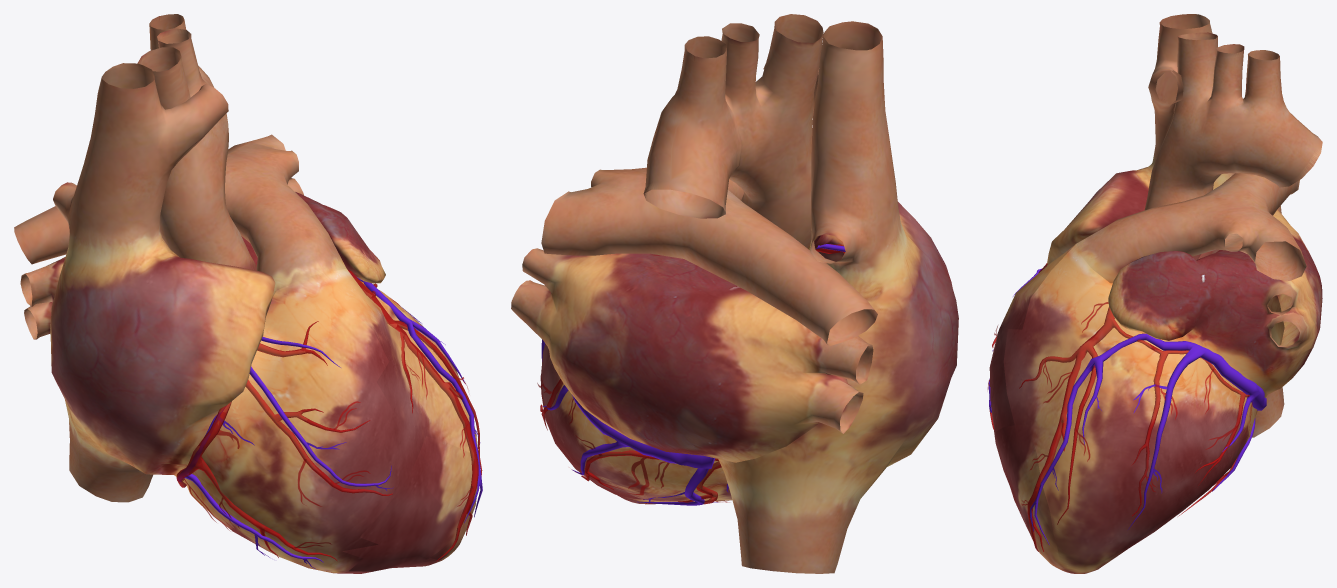
The model's file is human_heart_pieces.fbx.
3 renders of one model, left to right at view 1: azimuth 30°, elevation 25°; view 2: azimuth 150°, elevation 25°; view 3: azimuth 270°, elevation 25°, orthographic. The views are drawn at different scales.
Visible parts, largest first — view 1: RightChamber, LeftChamber, LungArteria, Aorta; view 2: LeftChamber, RightChamber, Aorta, LungArteria; view 3: LeftChamber, Aorta, LungArteria, RightChamber.
Boxes of the visible parts, x1,y1,x2,y2 form: RightChamber: (50,63,450,573); LeftChamber: (20,178,482,561); LungArteria: (14,134,346,290); Aorta: (137,14,256,270); LeftChamber: (511,244,873,505); RightChamber: (655,21,958,573); Aorta: (643,14,823,247); LungArteria: (541,167,877,345); LeftChamber: (1003,205,1322,573); Aorta: (1144,32,1322,259); LungArteria: (1076,173,1306,283); RightChamber: (987,14,1284,573).
Size of the model in its own units: 227 by 305 by 205.
3 materials, 3 textured.
